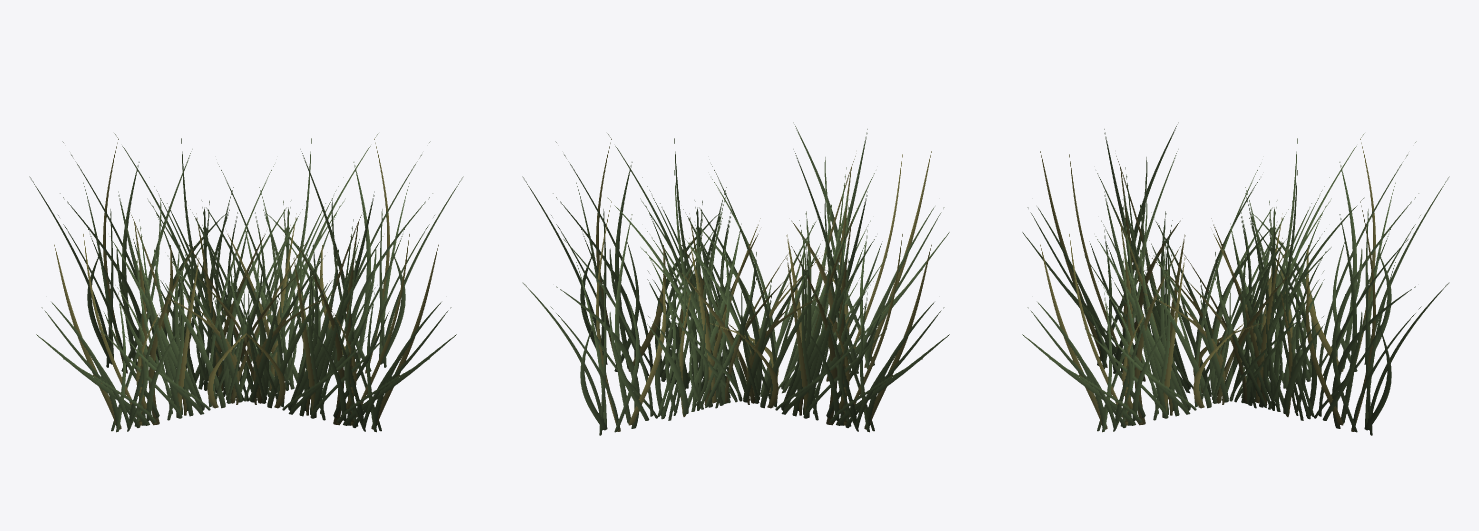
Rendered from woodland-grass-fescue.glb.
3 renders of one model, left to right at view 1: azimuth 30°, elevation 25°; view 2: azimuth 150°, elevation 25°; view 3: azimuth 270°, elevation 25°, orthographic.
Visible parts, largest first — view 1: woodland-grass-fescue; view 2: woodland-grass-fescue; view 3: woodland-grass-fescue.
Boxes of the visible parts, <box> form: woodland-grass-fescue: <box>29,133,463,432</box>; woodland-grass-fescue: <box>522,122,949,435</box>; woodland-grass-fescue: <box>1022,122,1449,435</box>.
Bounding box in the file's own units: 0.51 × 0.29 × 0.4417.
Materials: 1 (1 with a texture image).
